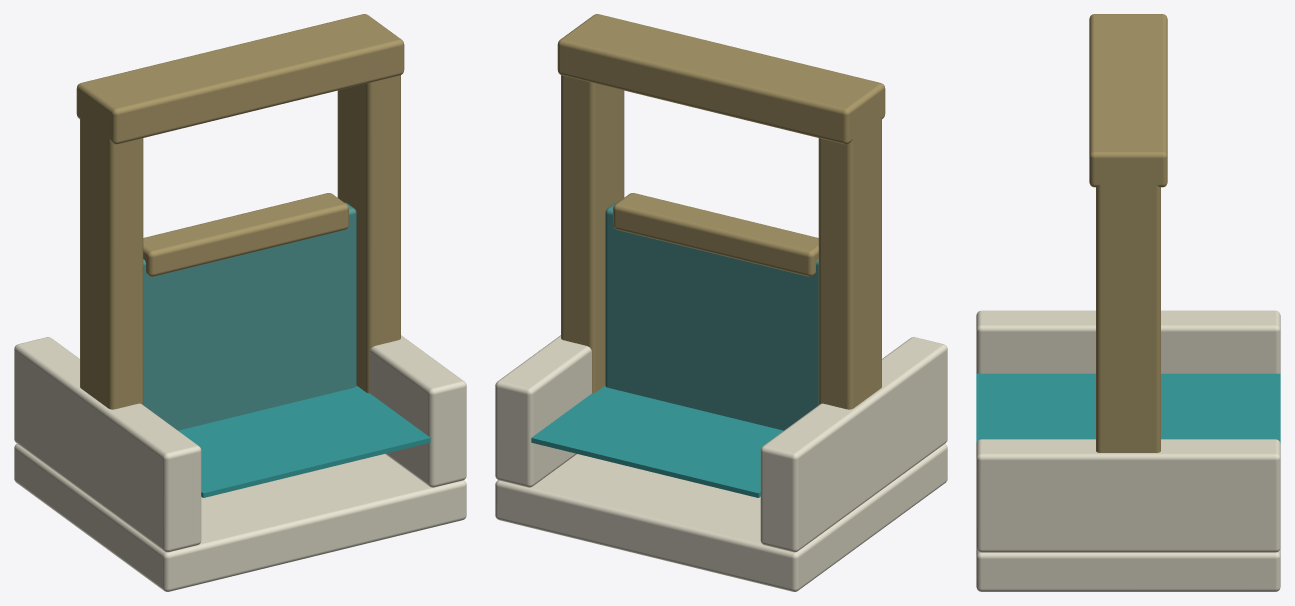
Rendered from water-clock-garden-and-hydraulic-puzzles-puzzle-sluice-1c84d25d__31949.glb.
3 renders of one model, left to right at view 1: azimuth 30°, elevation 25°; view 2: azimuth 150°, elevation 25°; view 3: azimuth 270°, elevation 25°, orthographic.
Parts seen in each view (by area): view 1: puzzle-sluice-slide; view 2: puzzle-sluice-slide; view 3: puzzle-sluice-slide.
Part boxes in pixels (x1,y1,x2,y2): puzzle-sluice-slide: (14, 14, 466, 591); puzzle-sluice-slide: (495, 14, 947, 591); puzzle-sluice-slide: (976, 14, 1280, 591).
Bounding box in the file's own units: 0.8 × 1.11 × 0.7.
